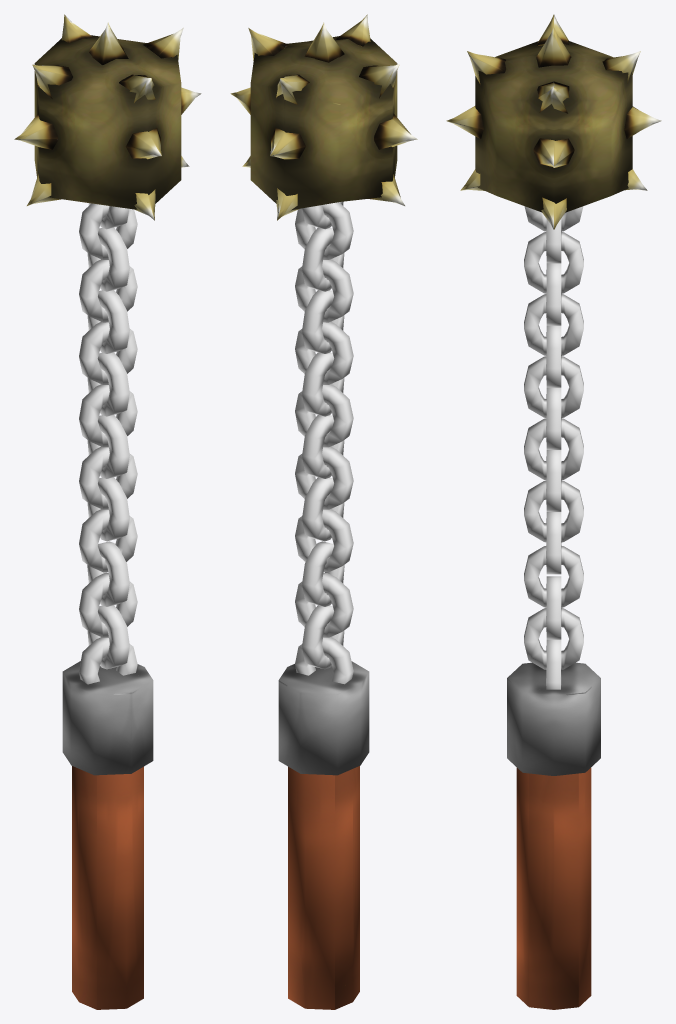
Rendered from MorningStarFlail.fbx.
3 renders of one model, left to right at view 1: azimuth 30°, elevation 25°; view 2: azimuth 150°, elevation 25°; view 3: azimuth 270°, elevation 25°, orthographic.
Visible parts, largest first — view 1: MorningStar, Chains, FlailHandle, FlailHilt; view 2: MorningStar, Chains, FlailHandle, FlailHilt; view 3: MorningStar, Chains, FlailHandle, FlailHilt.
Boxes of the visible parts, x1,y1,x2,y2 form: MorningStar: (14,14,201,220); Chains: (79,203,137,684); FlailHandle: (72,766,143,1009); FlailHilt: (62,661,153,775); MorningStar: (230,14,417,220); Chains: (295,201,353,684); FlailHandle: (288,766,359,1009); FlailHilt: (278,661,369,775); MorningStar: (446,14,661,229); Chains: (524,206,583,689); FlailHandle: (516,767,591,1009); FlailHilt: (507,662,600,775).
Size of the model in its own units: 62.92 by 312 by 62.92.
Materials: 5 (4 with a texture image).
